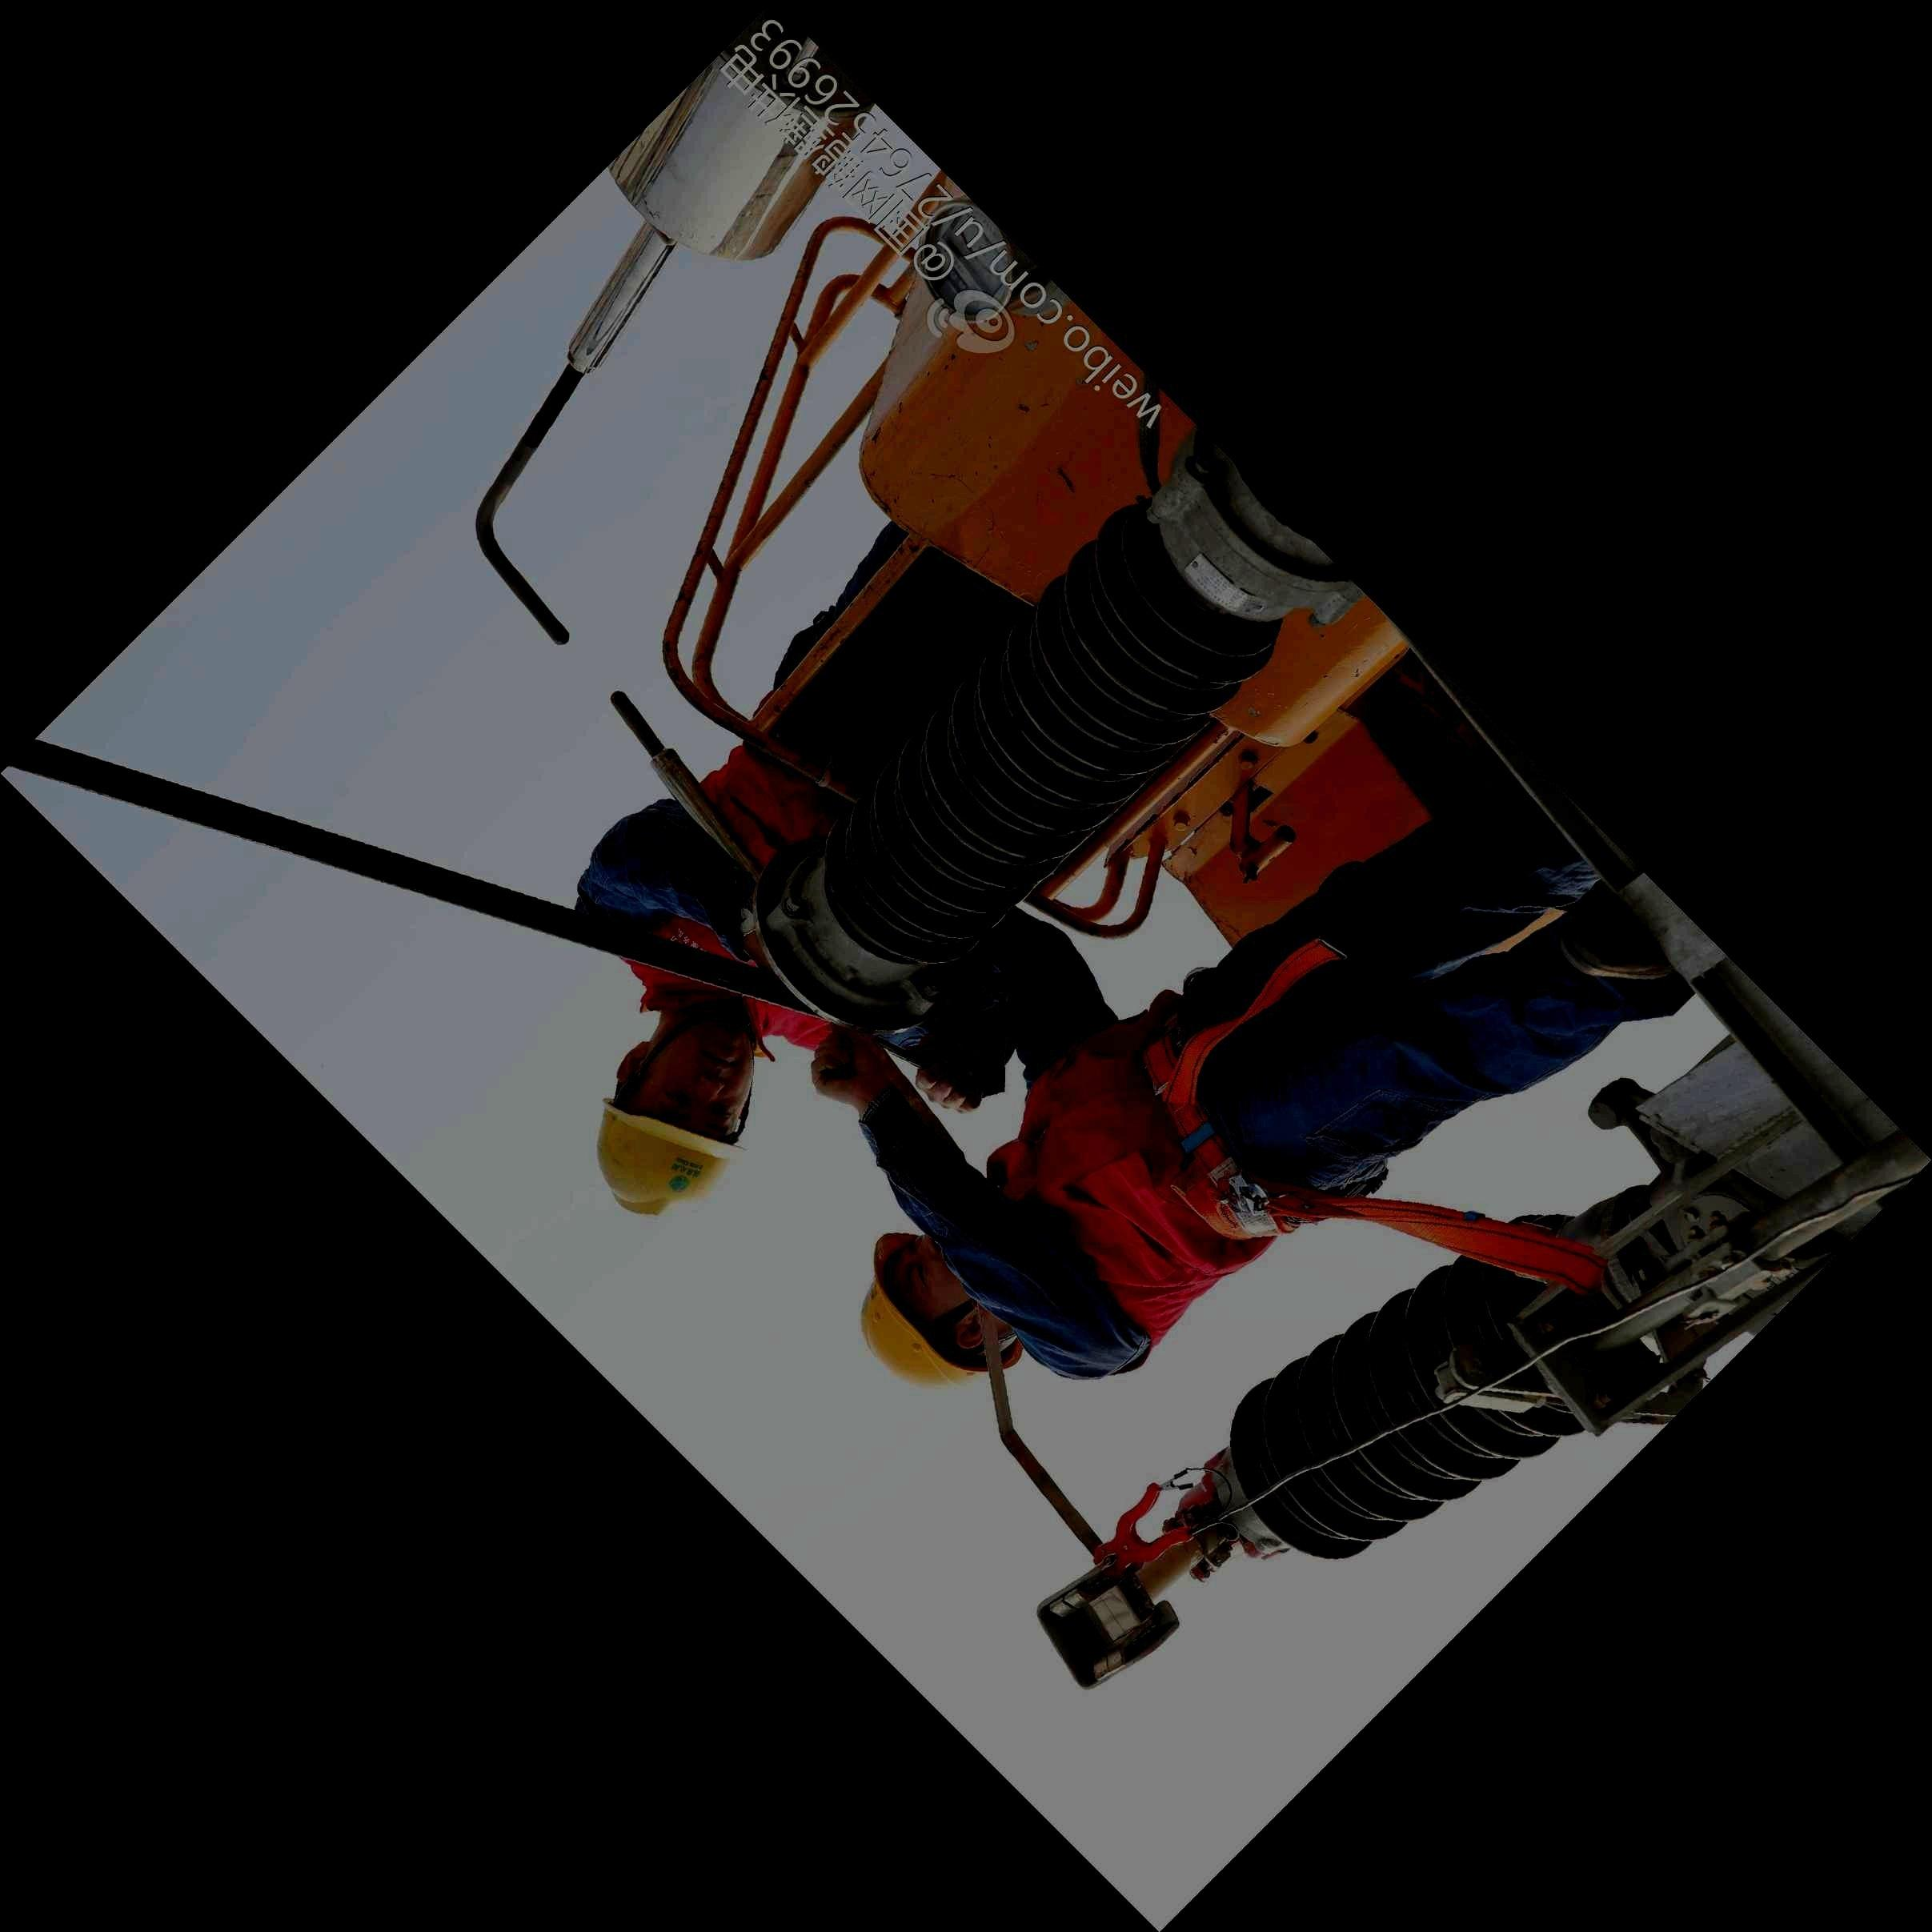helmet: (596, 1017, 754, 1215), (858, 1228, 1024, 1387)
